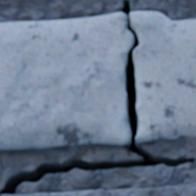brick: (0, 184, 195, 195)
broken_brick: (0, 13, 133, 150), (129, 12, 195, 143)
crack: (0, 1, 195, 194), (178, 124, 182, 137)
